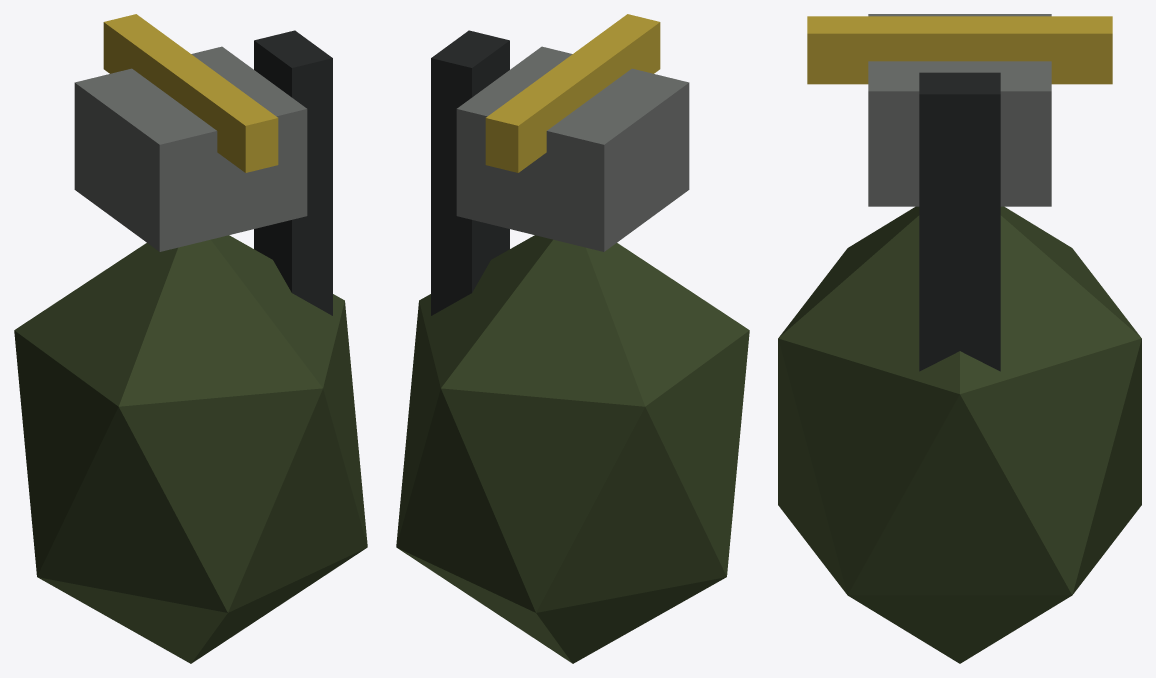
The model's file is granada.glb.
The picture shows the model from 3 angles, left to right: view 1: azimuth 30°, elevation 25°; view 2: azimuth 150°, elevation 25°; view 3: azimuth 270°, elevation 25°; orthographic projection. The views are drawn at different scales.
Parts seen in each view (by area): view 1: granada; view 2: granada; view 3: granada.
Part boxes in pixels (bbox=[...]): granada: bbox=[14, 14, 367, 663]; granada: bbox=[396, 14, 749, 663]; granada: bbox=[778, 14, 1141, 663].
Bounding box in the file's own units: 0.0751 × 0.1385 × 0.0715.
